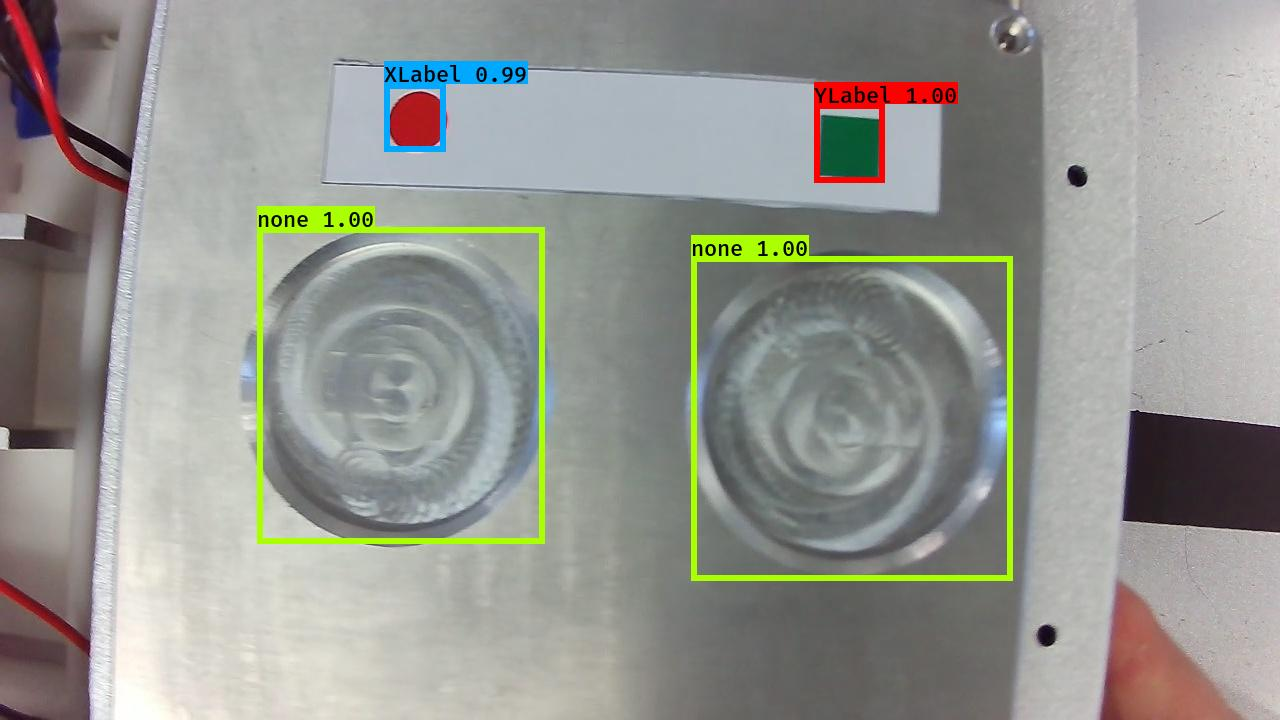XLabel: (382, 87, 454, 156)
YLabel: (816, 111, 882, 182)
none: (681, 246, 1013, 579), (231, 224, 562, 553)
